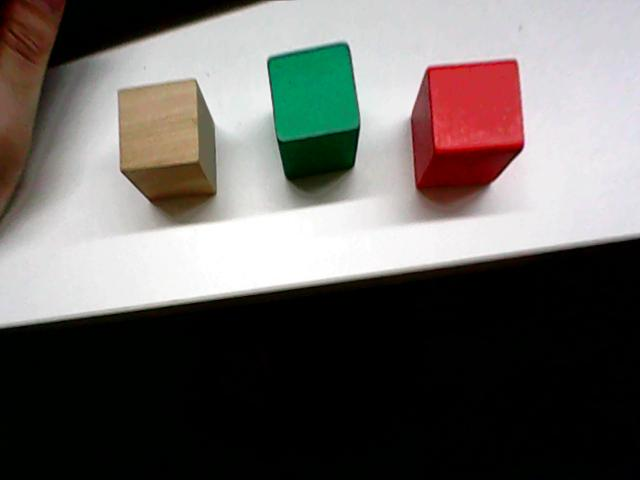green_box: (263, 38, 363, 182)
raw_box: (112, 74, 226, 202)
red_box: (407, 53, 528, 193)
